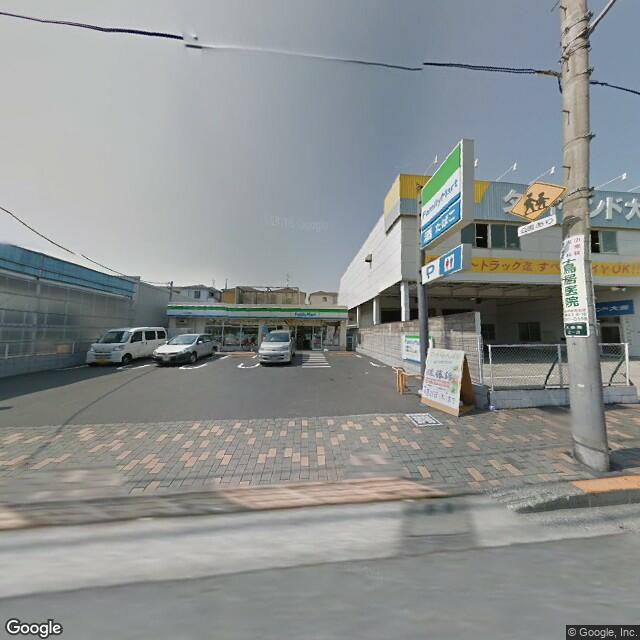family_mart: (418, 138, 465, 252), (164, 305, 347, 319)
